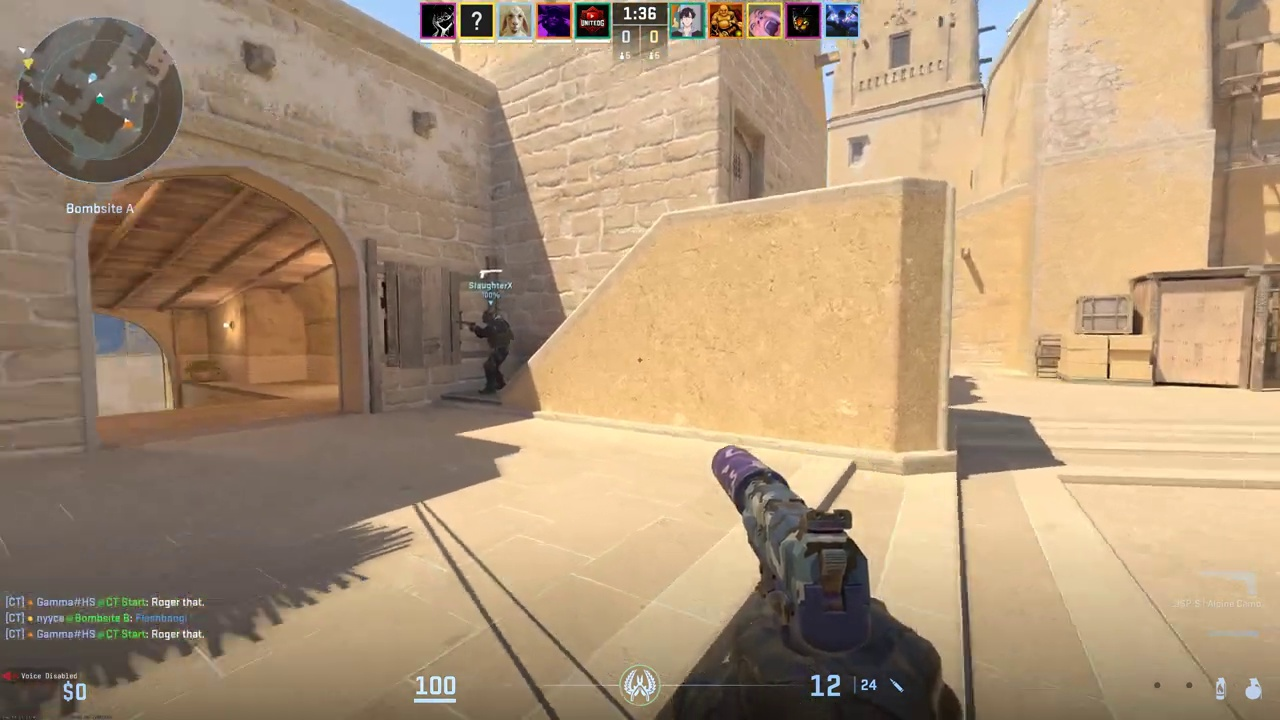CT: (476, 309, 511, 394)
